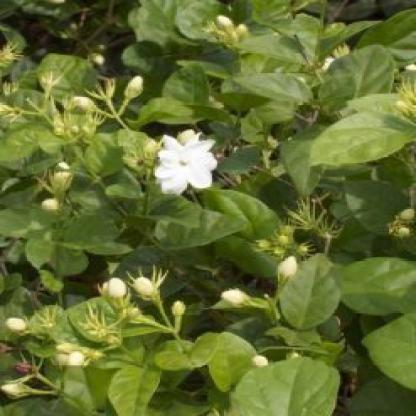Melati: (200, 254, 331, 312), (53, 70, 151, 132), (145, 122, 229, 193), (95, 268, 168, 313)
